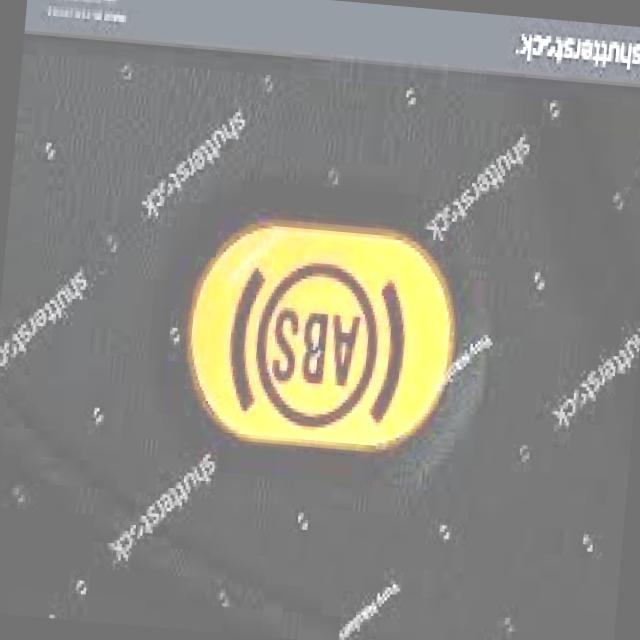kontrolka: (214, 248, 423, 442)
